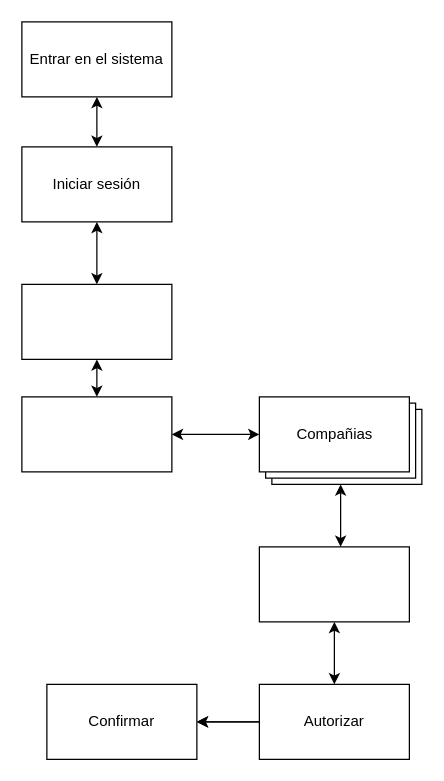
This 444x781 diagram has some shape labels left out. The shapes that lost their labels are listed below. From the top down, each one's box as (x1, y1, x2, y2) in pixels, then its label:
(21, 283, 172, 359): Configuración de la cuenta
(21, 396, 172, 472): Vincular cuenta externa
(258, 546, 409, 622): Compañia
